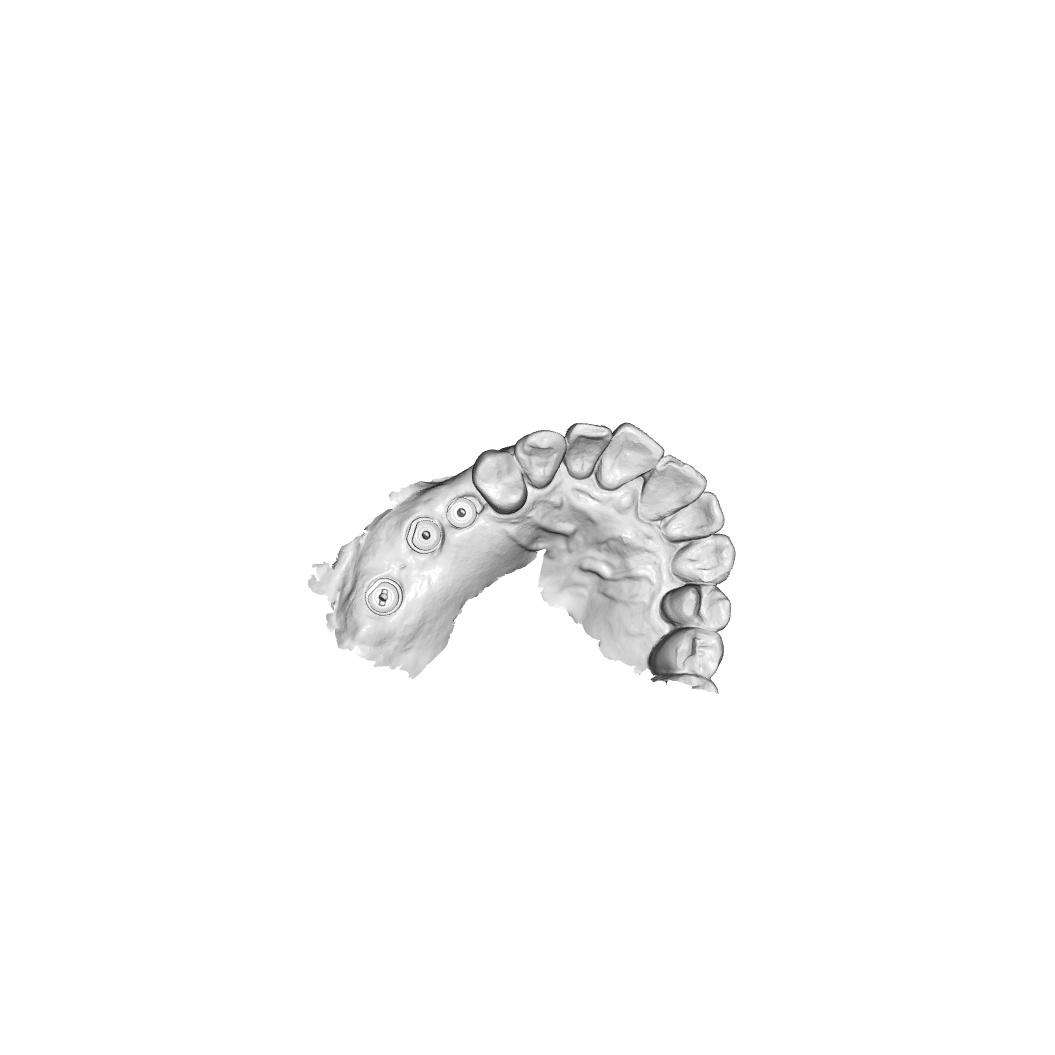canine: (669, 524, 739, 585), (511, 427, 569, 490)
implant: (403, 514, 448, 557), (444, 493, 478, 531)
implant_minus: (361, 574, 406, 618)
incisor: (600, 421, 664, 491), (643, 452, 708, 516), (663, 488, 727, 543), (561, 418, 614, 482)
premolar: (645, 626, 726, 680), (655, 581, 737, 633), (470, 448, 528, 515)
